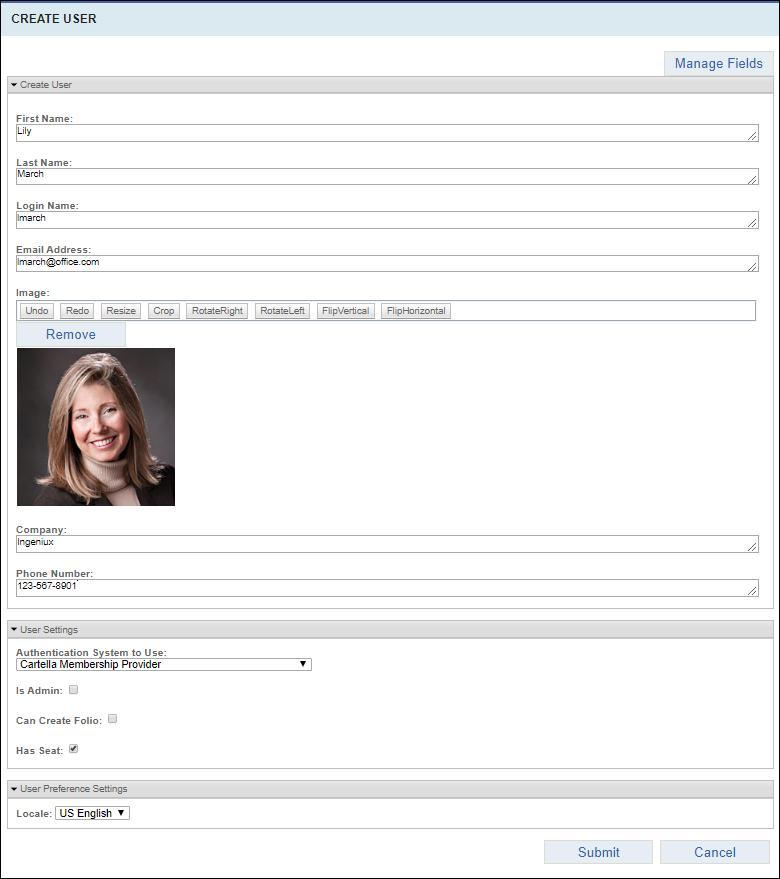button: (659, 838, 772, 864), (18, 322, 127, 348), (544, 839, 653, 864), (666, 51, 775, 75), (382, 304, 452, 319), (187, 304, 249, 319), (256, 304, 310, 320), (318, 305, 375, 320), (21, 304, 55, 320), (61, 304, 95, 320), (102, 305, 140, 319), (150, 305, 181, 319)
checkbox: (108, 714, 121, 726), (69, 685, 81, 696), (69, 743, 80, 755)
dropdown: (9, 780, 775, 800), (8, 621, 775, 639), (9, 77, 774, 95), (18, 658, 314, 672), (57, 806, 132, 820)
input: (15, 125, 759, 143), (16, 169, 759, 186), (16, 213, 759, 230), (17, 536, 761, 552), (17, 257, 760, 271), (19, 582, 758, 596)
label: (15, 647, 174, 660), (14, 712, 106, 732), (9, 12, 100, 28), (11, 568, 98, 580), (13, 743, 66, 761), (16, 199, 82, 213), (13, 683, 66, 700), (17, 245, 92, 257), (15, 111, 75, 125), (14, 158, 74, 171), (14, 524, 69, 536), (10, 808, 54, 822), (16, 286, 51, 301)
